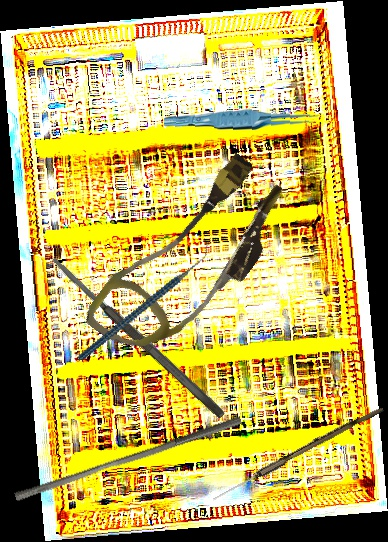Cannula: (80, 136, 302, 383)
Chopper: (56, 242, 233, 361)
Pusher: (13, 406, 243, 510)
Spatula Surgical: (47, 252, 228, 421)
Surgical Spoon: (210, 402, 385, 505)
Tissue Forceps: (163, 104, 322, 137)
